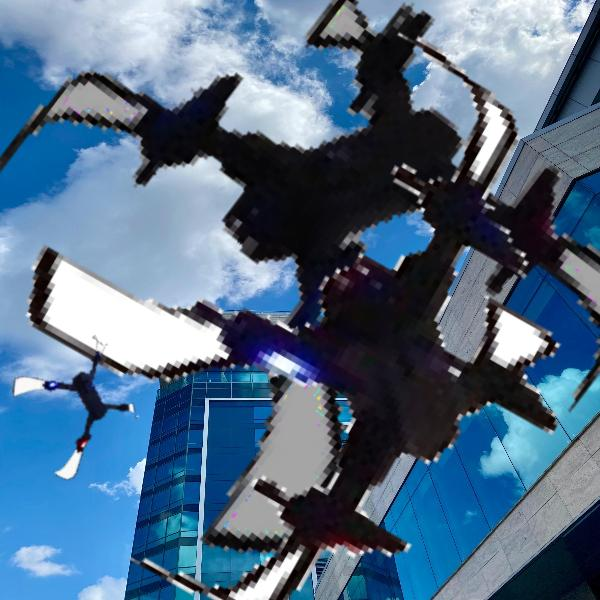drone: (14, 342, 143, 471)
